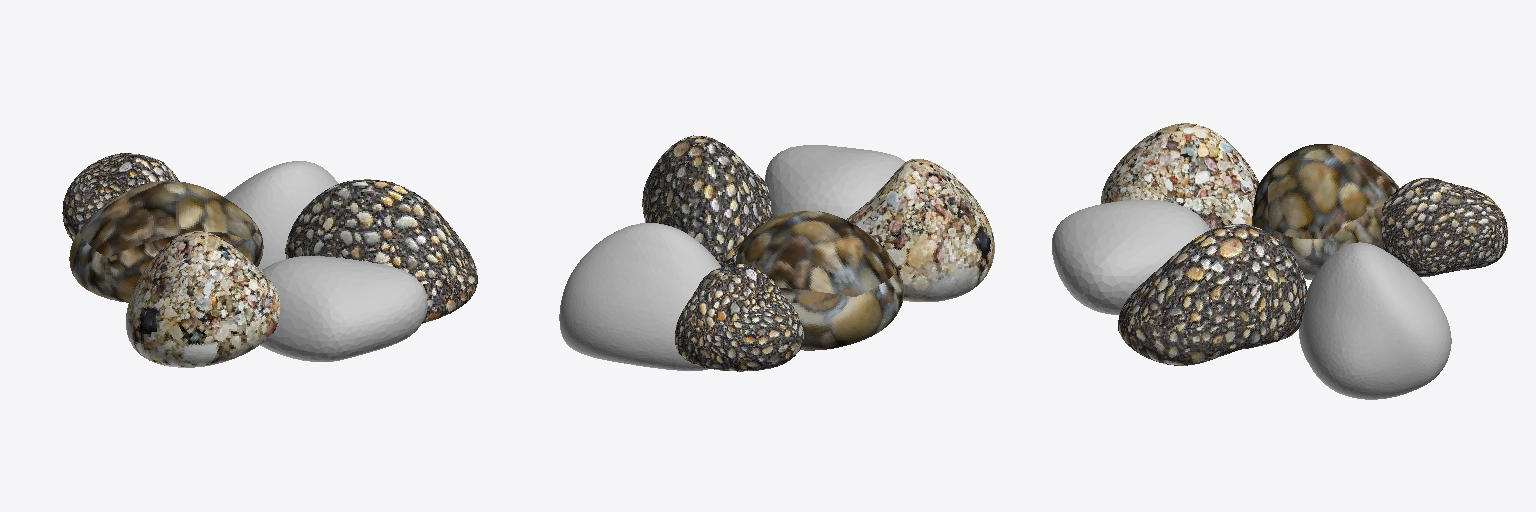
The picture shows the model from 3 angles: view 1: azimuth 30°, elevation 25°; view 2: azimuth 150°, elevation 25°; view 3: azimuth 270°, elevation 25°; orthographic projection.
Parts seen in each view (by area): view 1: Icosphere.005; view 2: Icosphere.005; view 3: Icosphere.005.
Part boxes in pixels (x1,y1,x2,y2): Icosphere.005: (62, 153, 477, 367); Icosphere.005: (559, 135, 994, 371); Icosphere.005: (1052, 123, 1507, 399).
Size of the model in its own units: 1.14 by 0.529 by 1.34.
6 materials, 3 textured.